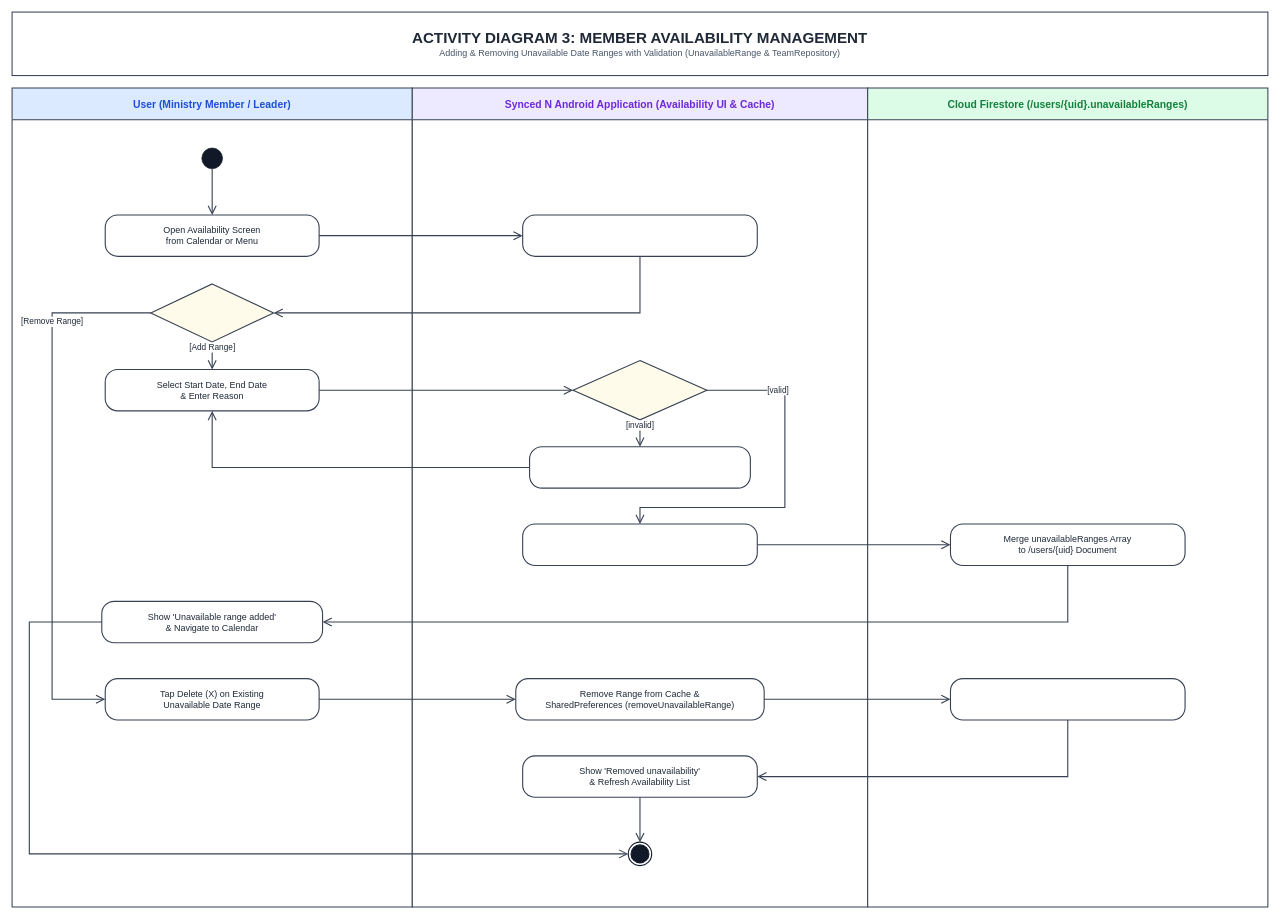
The diagram is 1281 pixels wide and 920 high, and some of its shapes have lost their labels. The centre of each missing label's shape, as x and y in pixels:
Create UnavailableRange & Update In-Memory Roster Cache: (639,544)
Display Validation Toast (Invalid Date Order or Limit): (640,467)
endDate >= startDate & Count < 100?: (639,390)
Load Scheduled Unavailabilities (getMemberUnavailableRanges): (639,235)
Selected Action?: (212,312)
Update unavailableRanges Array in /users/{uid} Document: (1067,699)
